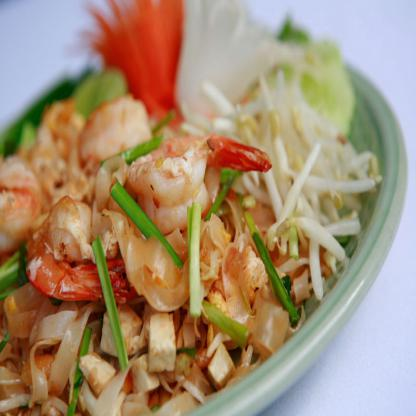Pad Thai: (0, 25, 364, 415)
